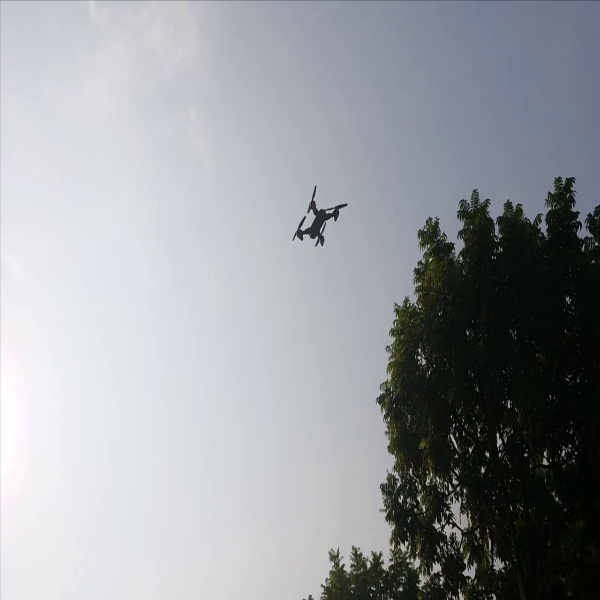drone: (289, 180, 348, 249)
